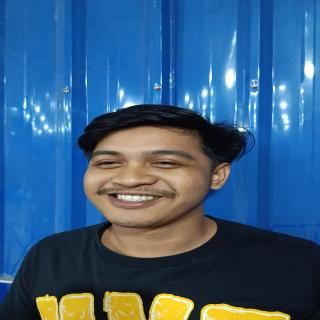Senang: (85, 126, 223, 229)
